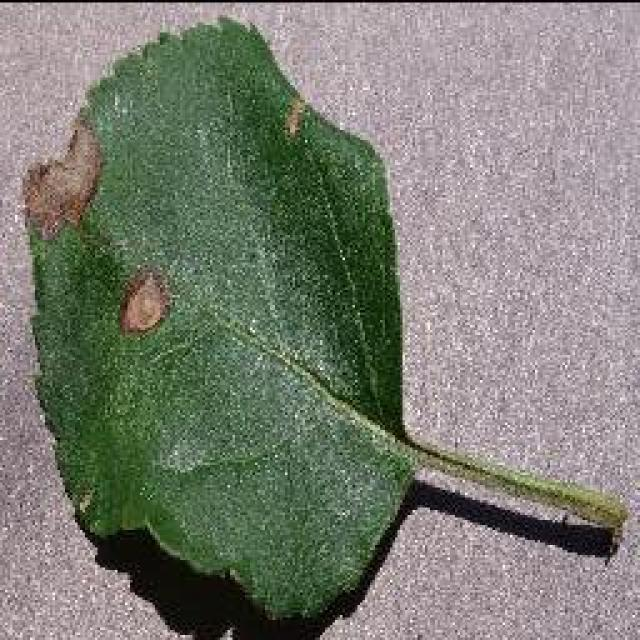apple black rot: (18, 12, 628, 628)
